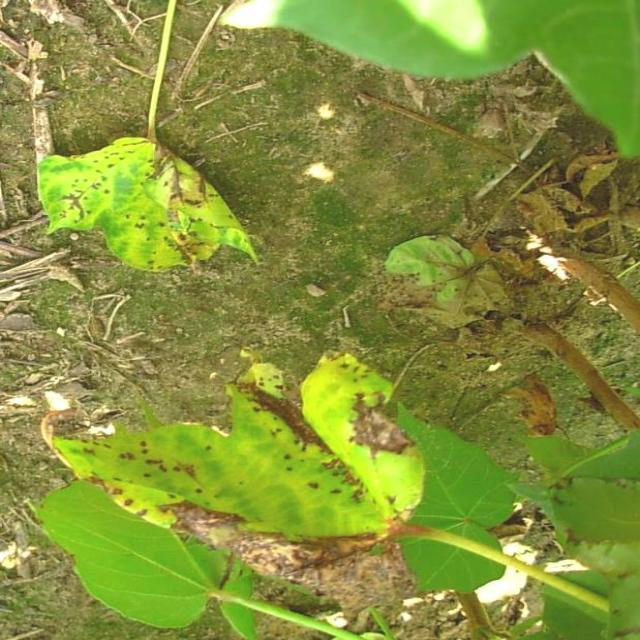Bacterial Blight: (99, 357, 434, 575)
